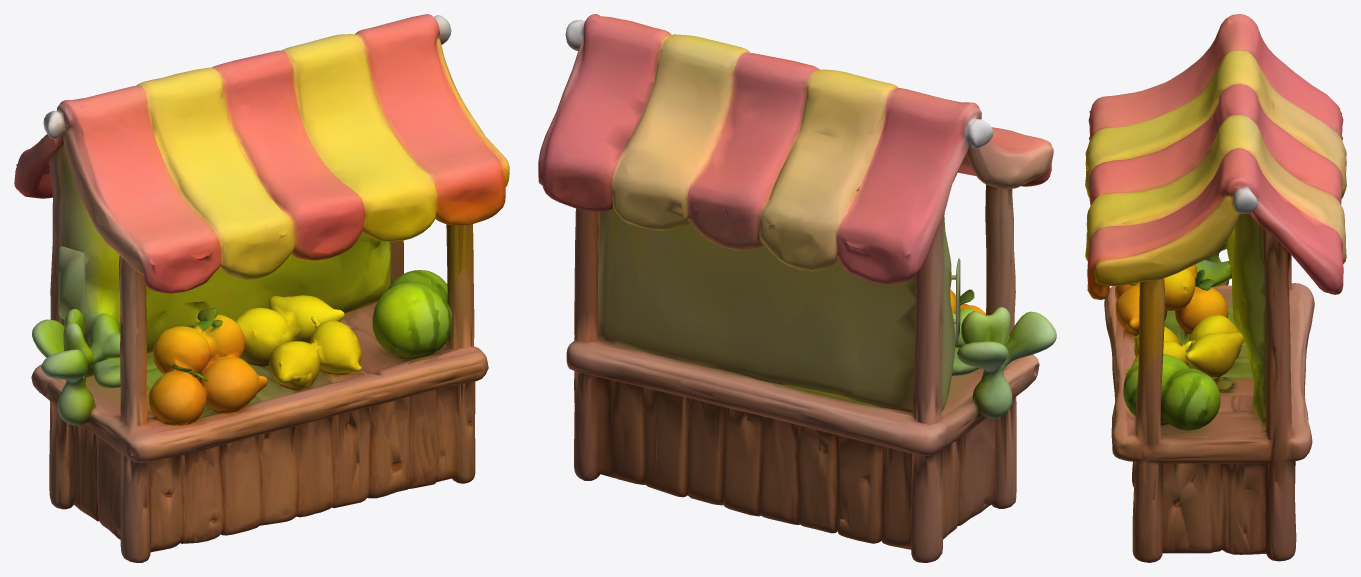
File: market_stall.glb
The picture shows the model from 3 angles, left to right: view 1: azimuth 30°, elevation 25°; view 2: azimuth 150°, elevation 25°; view 3: azimuth 270°, elevation 25°; orthographic projection. The views are drawn at different scales.
Visible parts, largest first — view 1: tripo_node_a20ad923-a830-4a99-9865-639387509b42; view 2: tripo_node_a20ad923-a830-4a99-9865-639387509b42; view 3: tripo_node_a20ad923-a830-4a99-9865-639387509b42.
Part boxes in pixels (bbox=[...]): tripo_node_a20ad923-a830-4a99-9865-639387509b42: bbox=[14, 14, 509, 562]; tripo_node_a20ad923-a830-4a99-9865-639387509b42: bbox=[538, 14, 1056, 562]; tripo_node_a20ad923-a830-4a99-9865-639387509b42: bbox=[1085, 14, 1346, 562].
Size of the model in its own units: 0.9806 by 0.9149 by 0.5552.
Materials: 1 (1 with a texture image).
